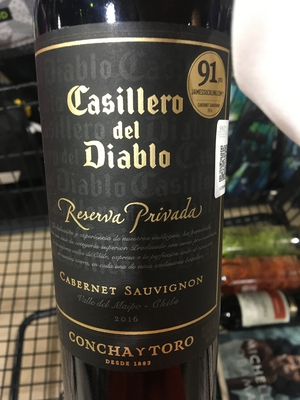casillero del diablo reserva privada cabernet sauvignon: (33, 18, 235, 392)
